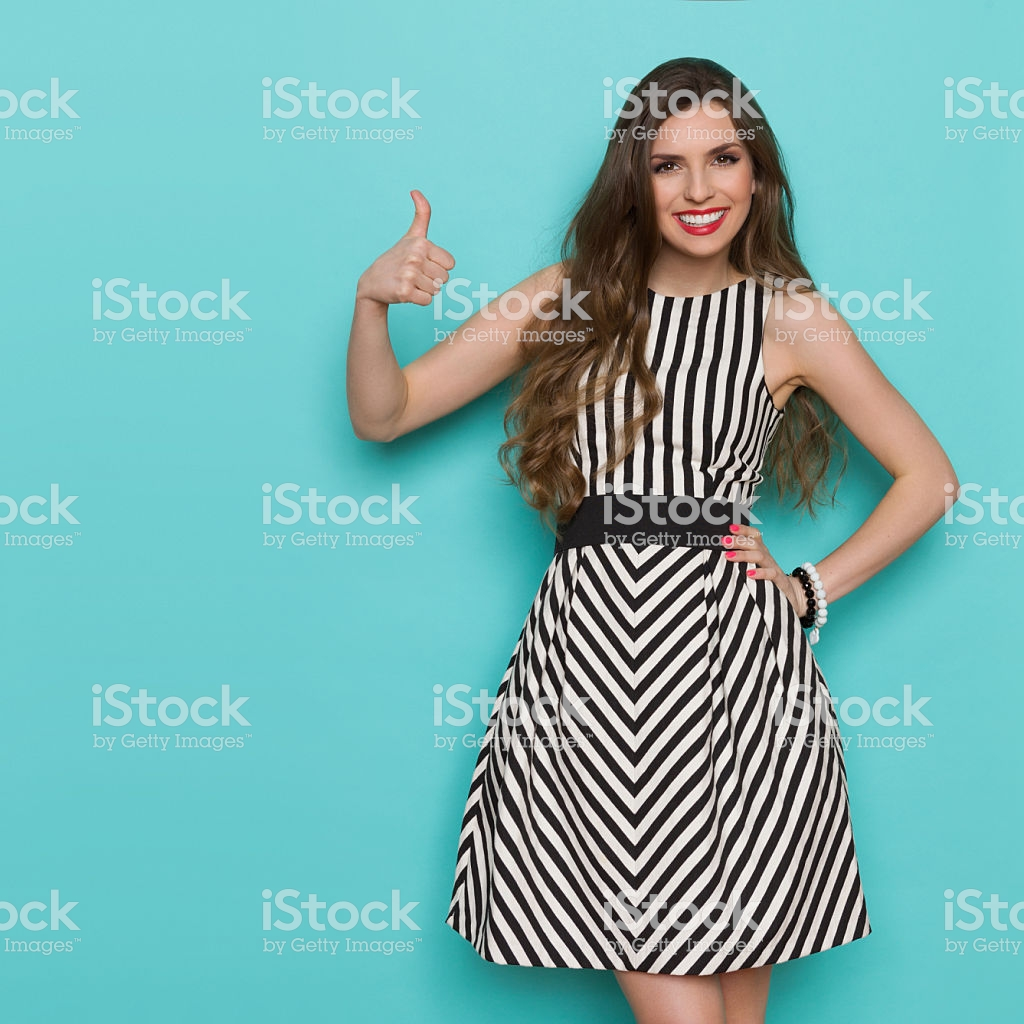thumbsup: (381, 188, 457, 309)
